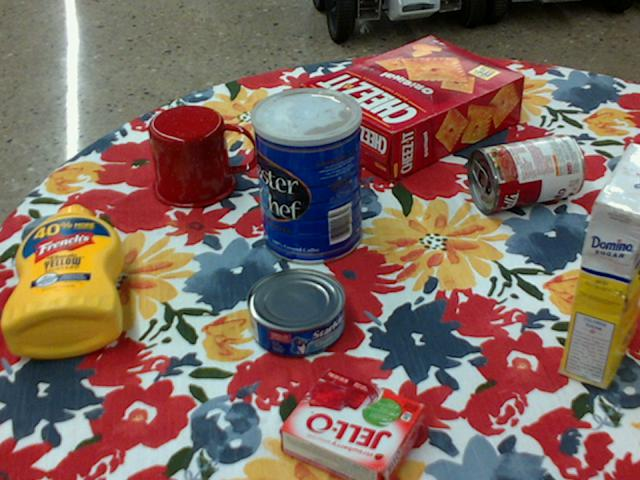cracker_box: (302, 37, 526, 183)
gelatin_box: (281, 371, 430, 479)
master_chef_can: (251, 86, 363, 264)
mug: (148, 104, 256, 208)
mustard_bottle: (2, 204, 124, 357)
sugar_box: (561, 142, 639, 390)
tomato_soup_can: (468, 132, 586, 213)
tuna_fish_can: (247, 269, 345, 358)
